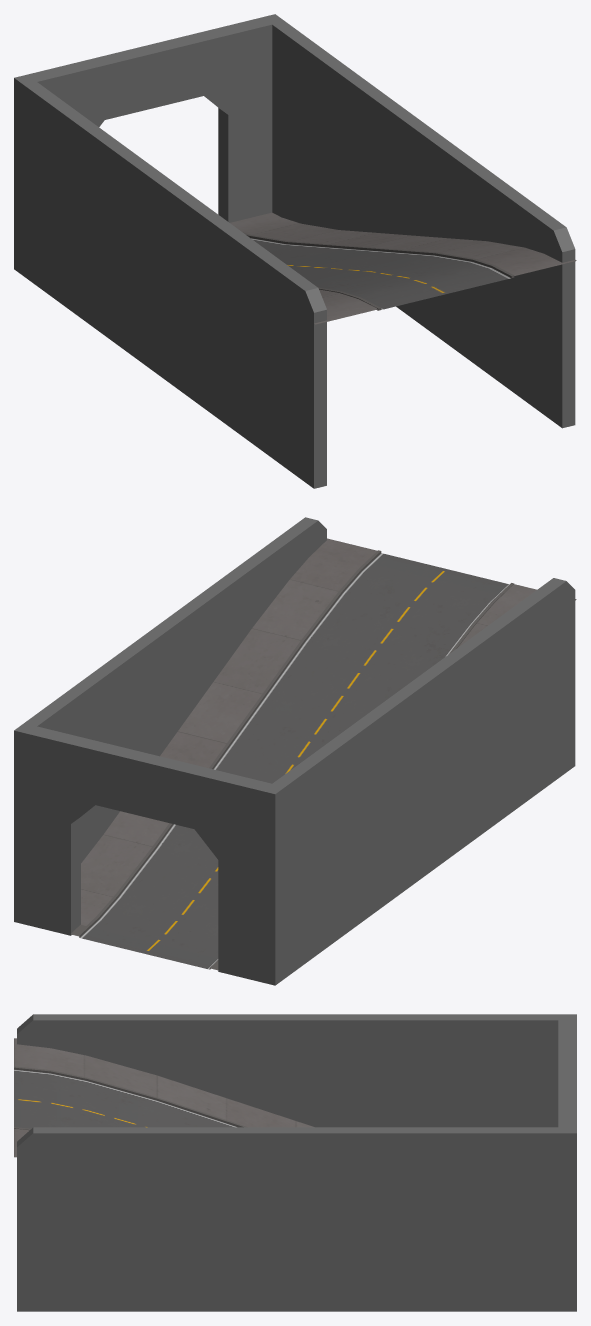
The model's file is SM_Floor_Road_11.fbx.
3 renders of one model, top to bottom at view 1: azimuth 30°, elevation 25°; view 2: azimuth 150°, elevation 25°; view 3: azimuth 270°, elevation 25°, orthographic. The views are drawn at different scales.
Visible parts, largest first — view 1: SM_Floor_Road_11; view 2: SM_Floor_Road_11; view 3: SM_Floor_Road_11.
Boxes of the visible parts, <box> form: SM_Floor_Road_11: <box>14,14,576,488</box>; SM_Floor_Road_11: <box>14,517,576,985</box>; SM_Floor_Road_11: <box>14,1014,576,1311</box>.
Size of the model in its own units: 10 by 7 by 20.
